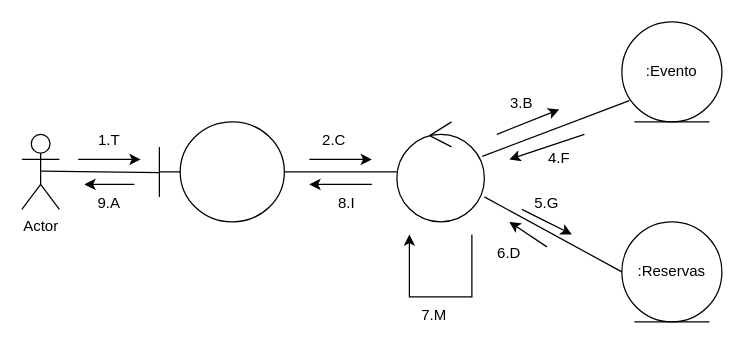
Some shapes in this 744 by 356 pixel diagram are drawn without their labels. Here are the shapes that lost their labels. From the top down, the centre of each, then its label:
At [221,171]: ":PantallaEvento".
At [440,171]: ":Calcular Cupos".
